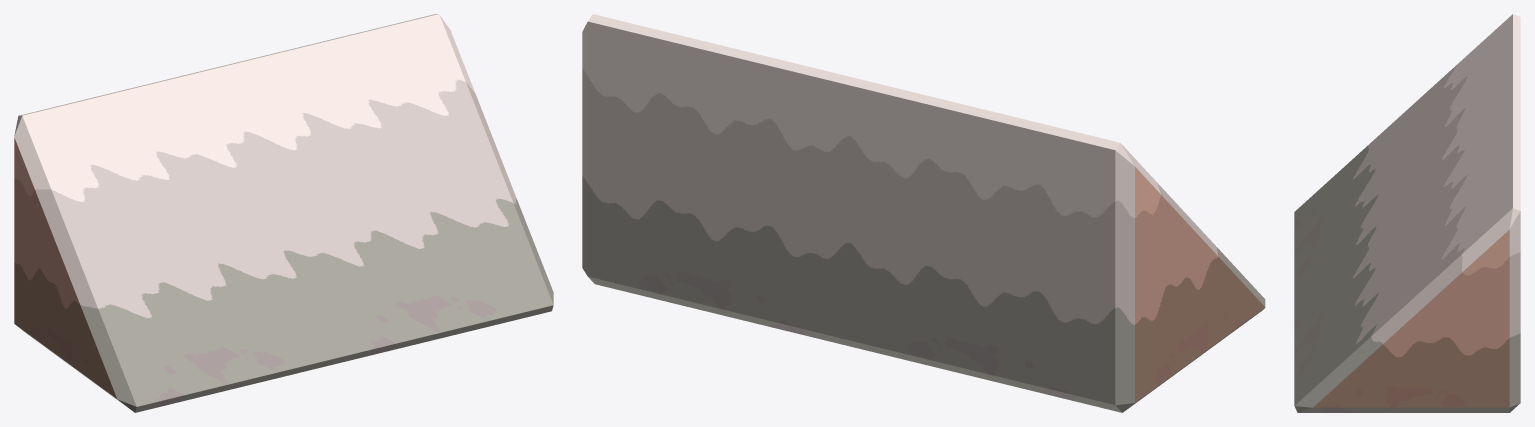
File: R4B_WideWedge_LOD1.glb
The picture shows the model from 3 angles, left to right: view 1: azimuth 30°, elevation 25°; view 2: azimuth 150°, elevation 25°; view 3: azimuth 270°, elevation 25°; orthographic projection. The views are drawn at different scales.
Visible parts, largest first — view 1: R4B_WideWedge_LOD1; view 2: R4B_WideWedge_LOD1; view 3: R4B_WideWedge_LOD1.
Part boxes in pixels (x1,y1,x2,y2): R4B_WideWedge_LOD1: (14, 14, 553, 412); R4B_WideWedge_LOD1: (582, 14, 1265, 412); R4B_WideWedge_LOD1: (1294, 14, 1520, 412).
Bounding box in the file's own units: 1.07 × 0.503 × 0.503.
2 materials, 2 textured.
